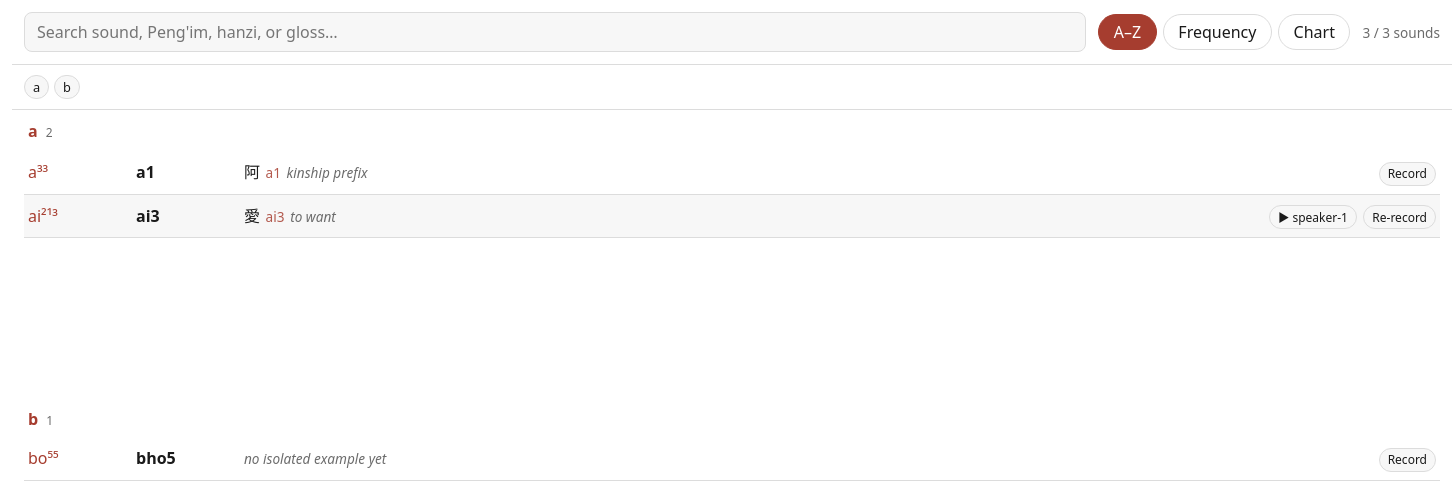
Test case: SoundsView chart view (issue #171) › clicking an attested cell populates the detail panel with tone, pengim, IPA, and examples
Click the button "Chart".
click(1314, 32)  # box [1278,14,1350,50]
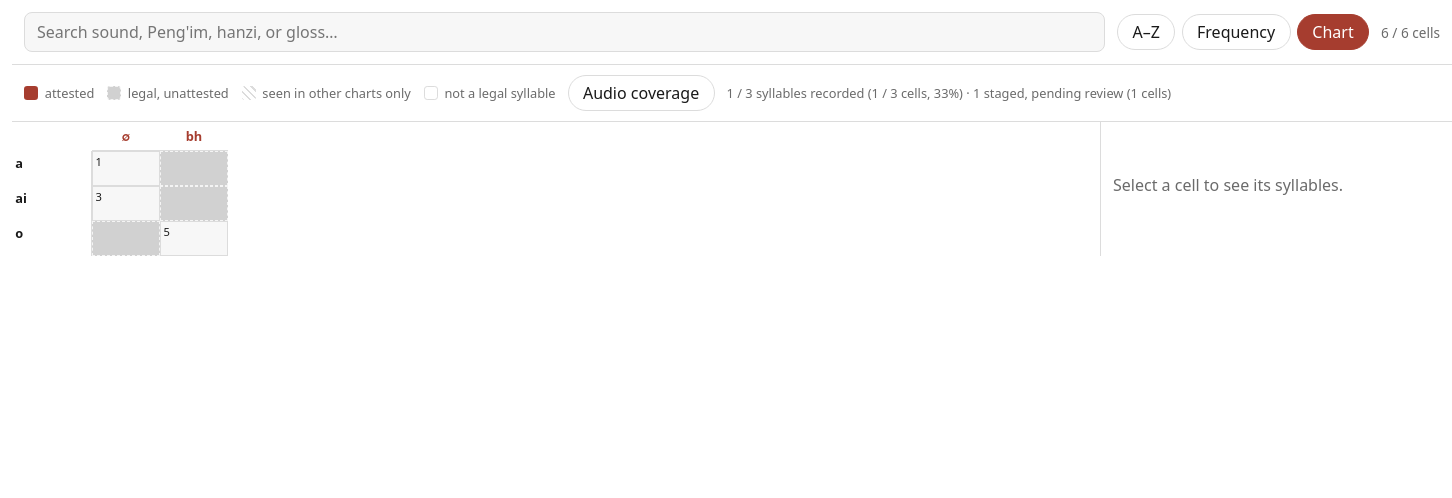
Click the cell named "no initial, rime a: attested".
click(126, 168)  # box [92,151,160,186]
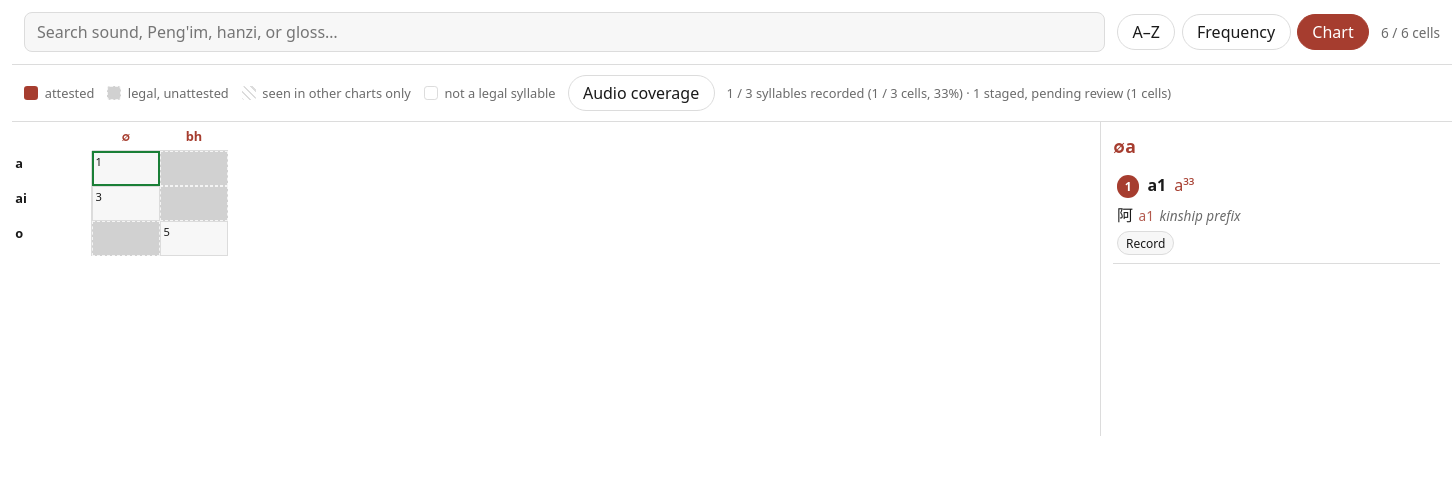
Result: the text "a1" is shown 2 times at [1147,174,1166,196]; [1139,206,1154,226]
Result: the text "a³³" is shown at [1174,174,1194,196]
Result: the text "阿" is shown at [1117,202,1133,226]
